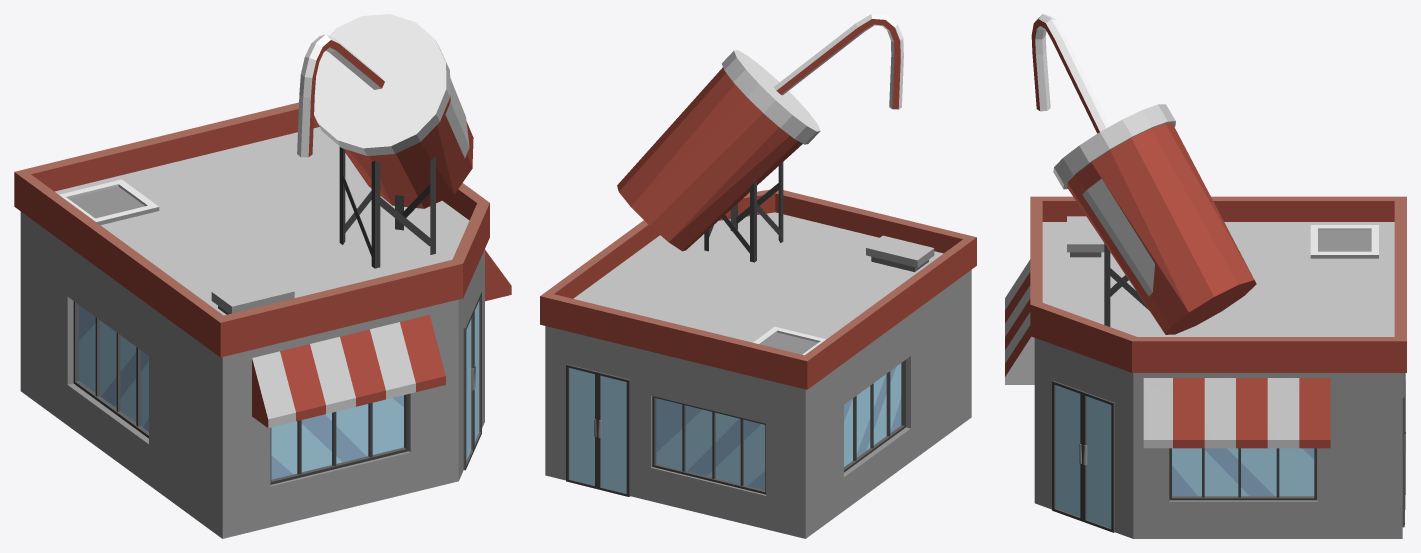
Rendered from cafe_004.glb.
3 views of the same model, side by side, from view 1: azimuth 30°, elevation 25°; view 2: azimuth 150°, elevation 25°; view 3: azimuth 270°, elevation 25° (orthographic). The views are drawn at different scales.
Parts seen in each view (by area): view 1: cafe_004; view 2: cafe_004; view 3: cafe_004.
Boxes of the visible parts, x1,y1,x2,y2 form: cafe_004: (14,14,511,538); cafe_004: (540,14,976,538); cafe_004: (1005,14,1406,538).
Size of the model in its own units: 5.65 by 7.19 by 6.09.
Materials: 1 (1 with a texture image).
